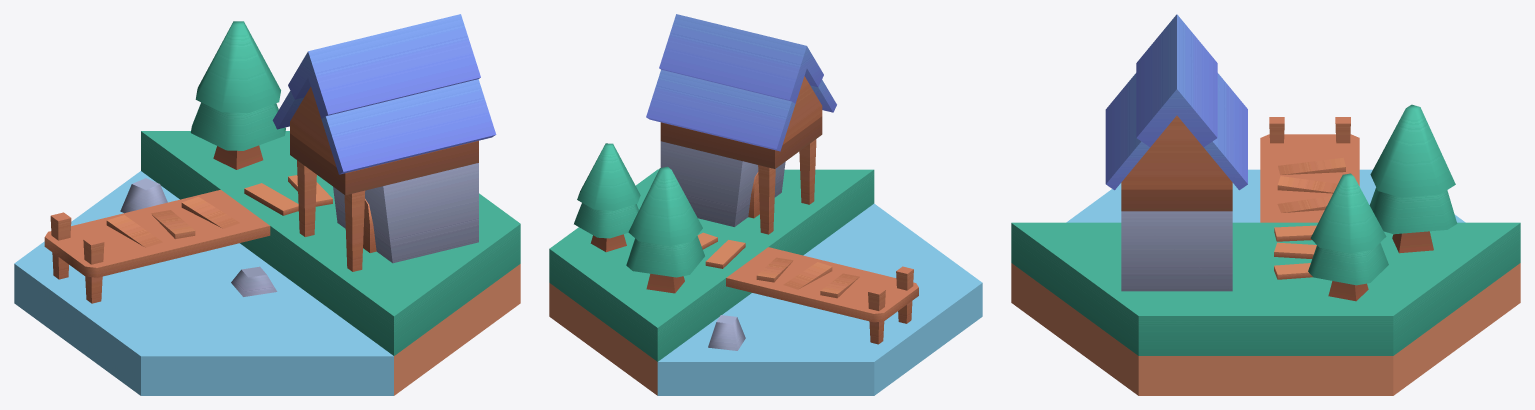
Rendered from building-port.glb.
The picture shows the model from 3 angles, left to right: view 1: azimuth 30°, elevation 25°; view 2: azimuth 150°, elevation 25°; view 3: azimuth 270°, elevation 25°; orthographic projection. The views are drawn at different scales.
Visible parts, largest first — view 1: building-port; view 2: building-port; view 3: building-port.
Boxes of the visible parts, x1,y1,x2,y2 form: building-port: (14,14,520,395); building-port: (549,14,982,395); building-port: (1011,14,1520,395).
Bounding box in the file's own units: 1 × 0.7176 × 1.15.
1 material, 1 textured.
